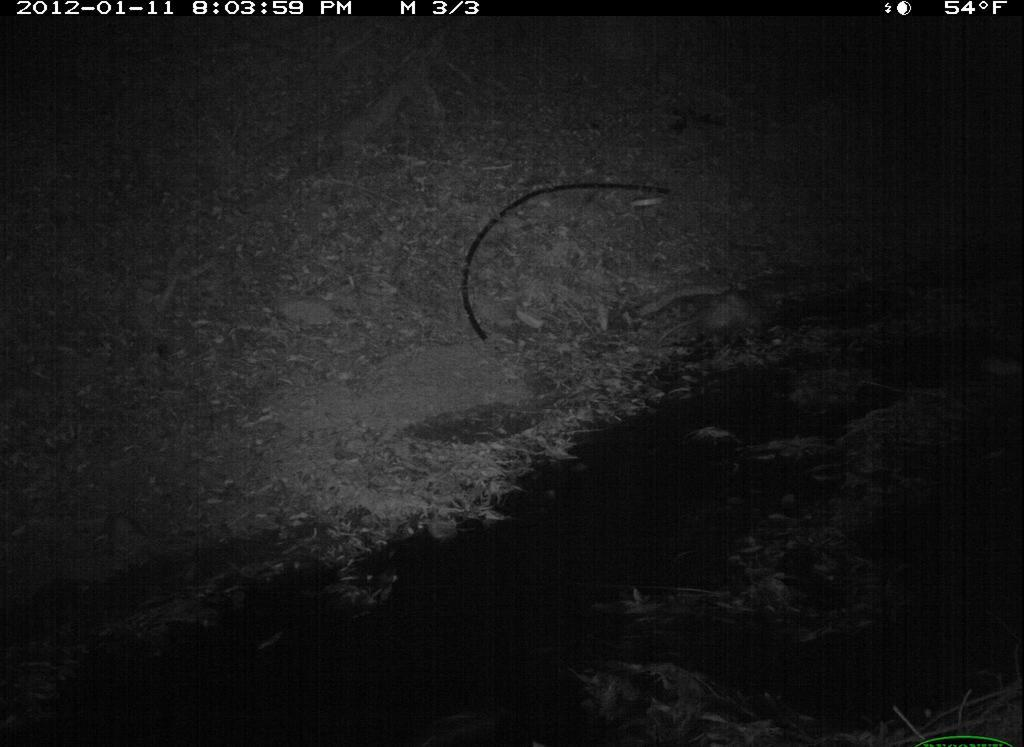opossum: (647, 265, 804, 353)
